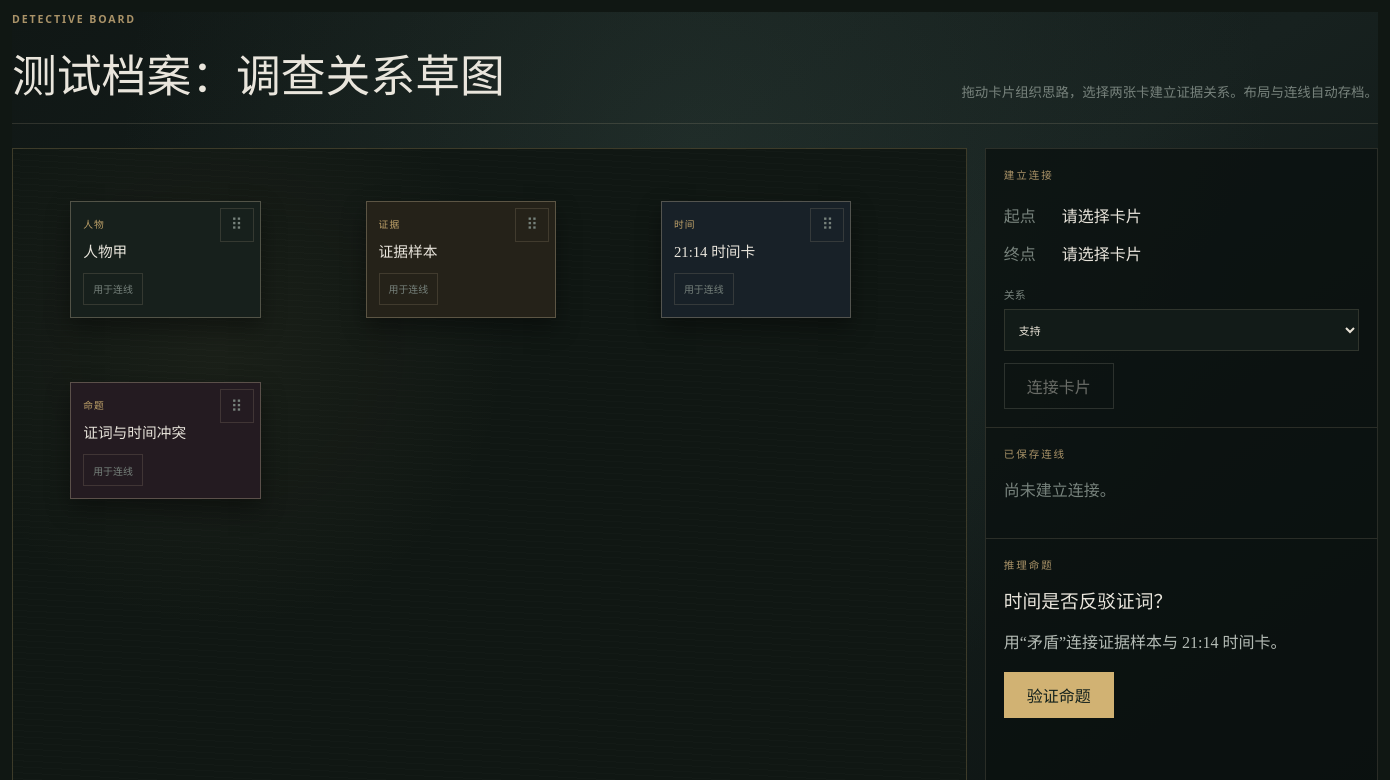
Scenario: V0.4.2 investigation tool UI › creates and deletes a detective-board connection through the UI
The width and height of the screenshot is (1390, 780).
Check: the text "证据样本" is shown, box [378, 244, 437, 260]
Check: the text "21:14 时间卡" is shown, box [674, 244, 755, 260]
Step 1. Click the 2nd button "用于连线" → click(408, 289), box [378, 273, 438, 305]
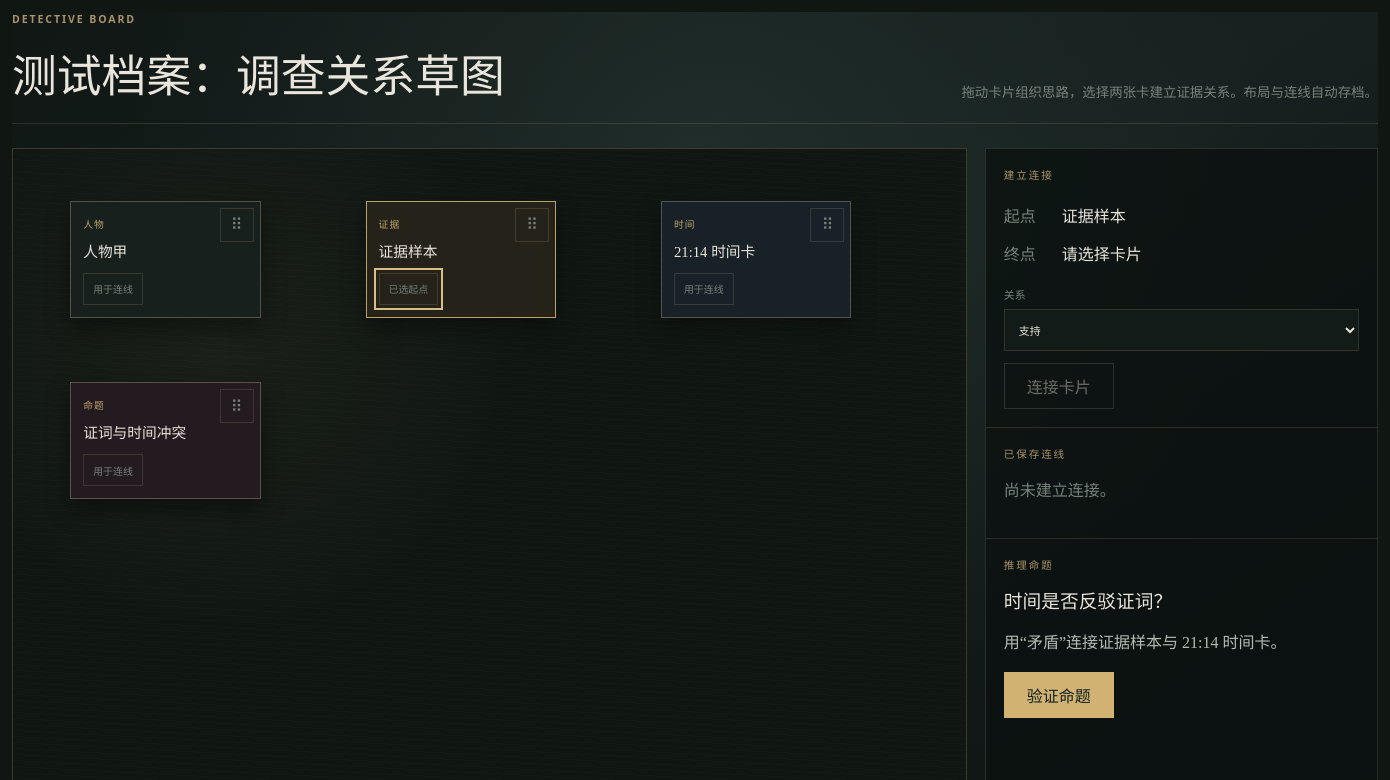
Step 2. Click the 2nd button "用于连线" → click(704, 289), box [674, 273, 734, 305]
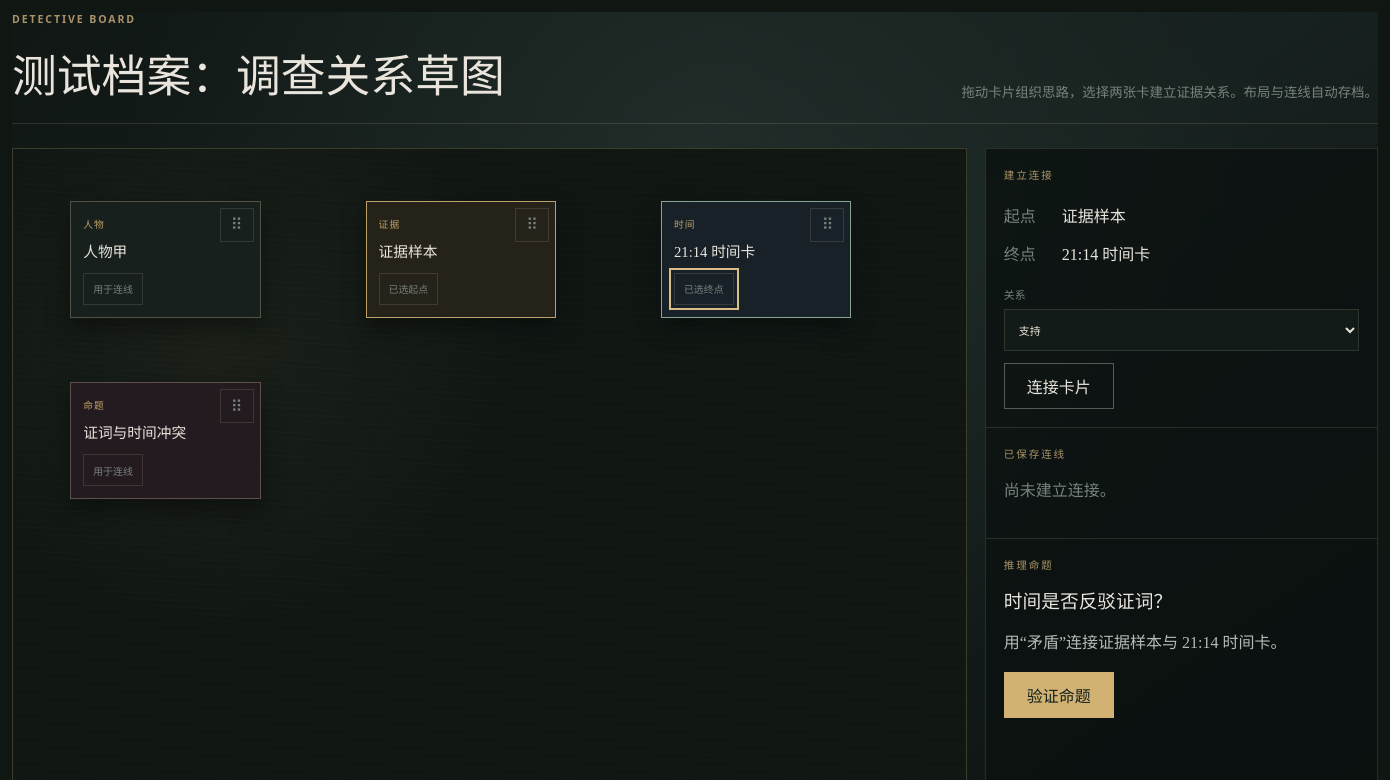
Step 3. Select "矛盾" in the dropdown labelled "关系" → (1181, 330), box [1004, 309, 1359, 351]
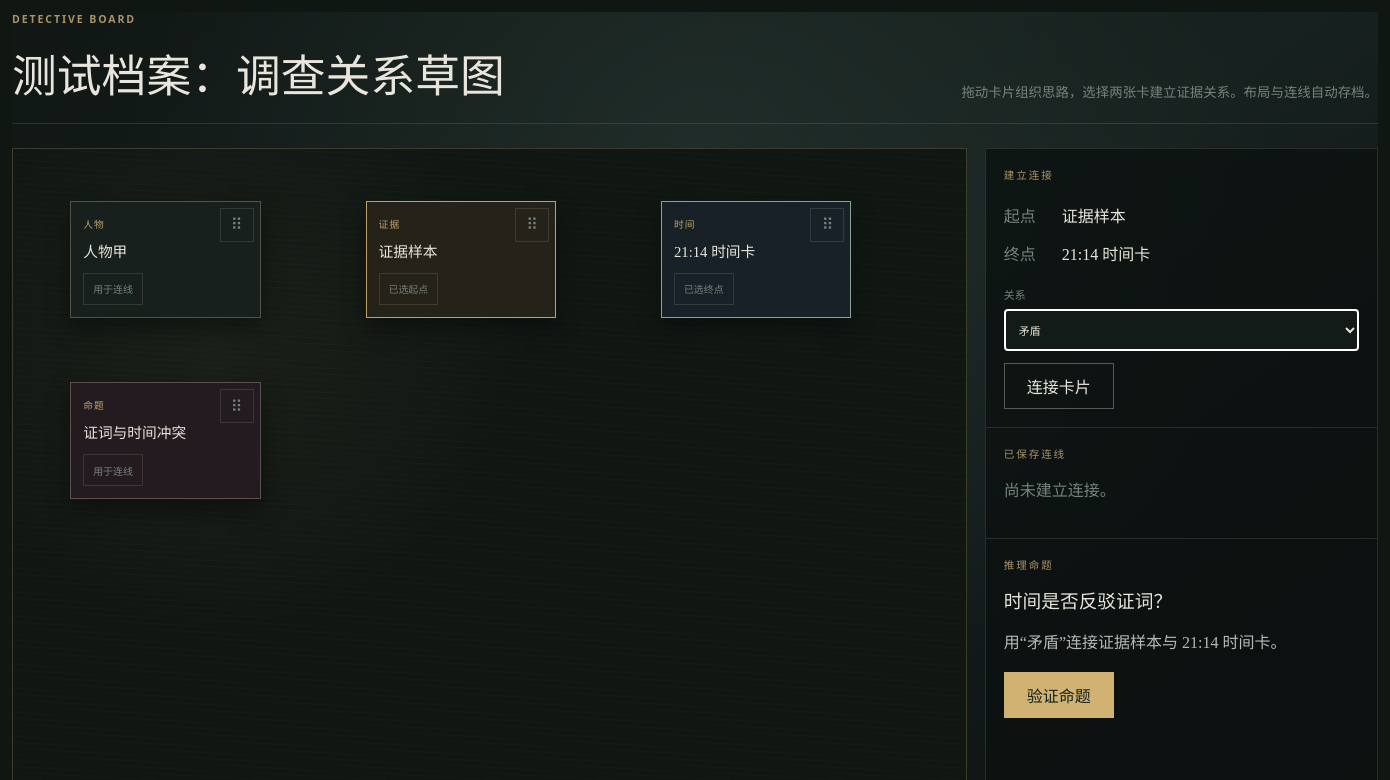
Step 4. Click the button "连接卡片" → click(1059, 386), box [1004, 363, 1114, 409]
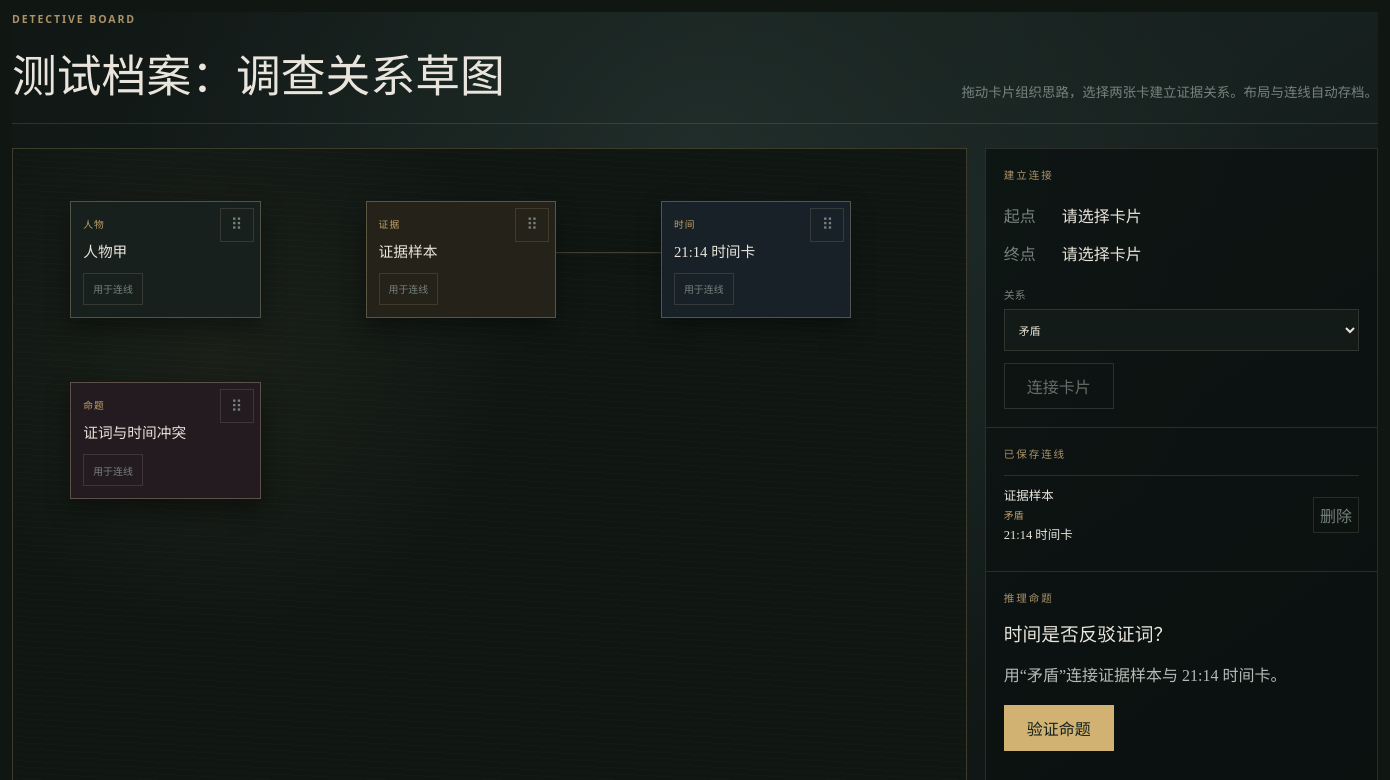
Check: the button with aria-label "删除矛盾连接" is shown
Step 5. Click the button with aria-label "删除矛盾连接" → click(1336, 514), box [1313, 496, 1359, 532]
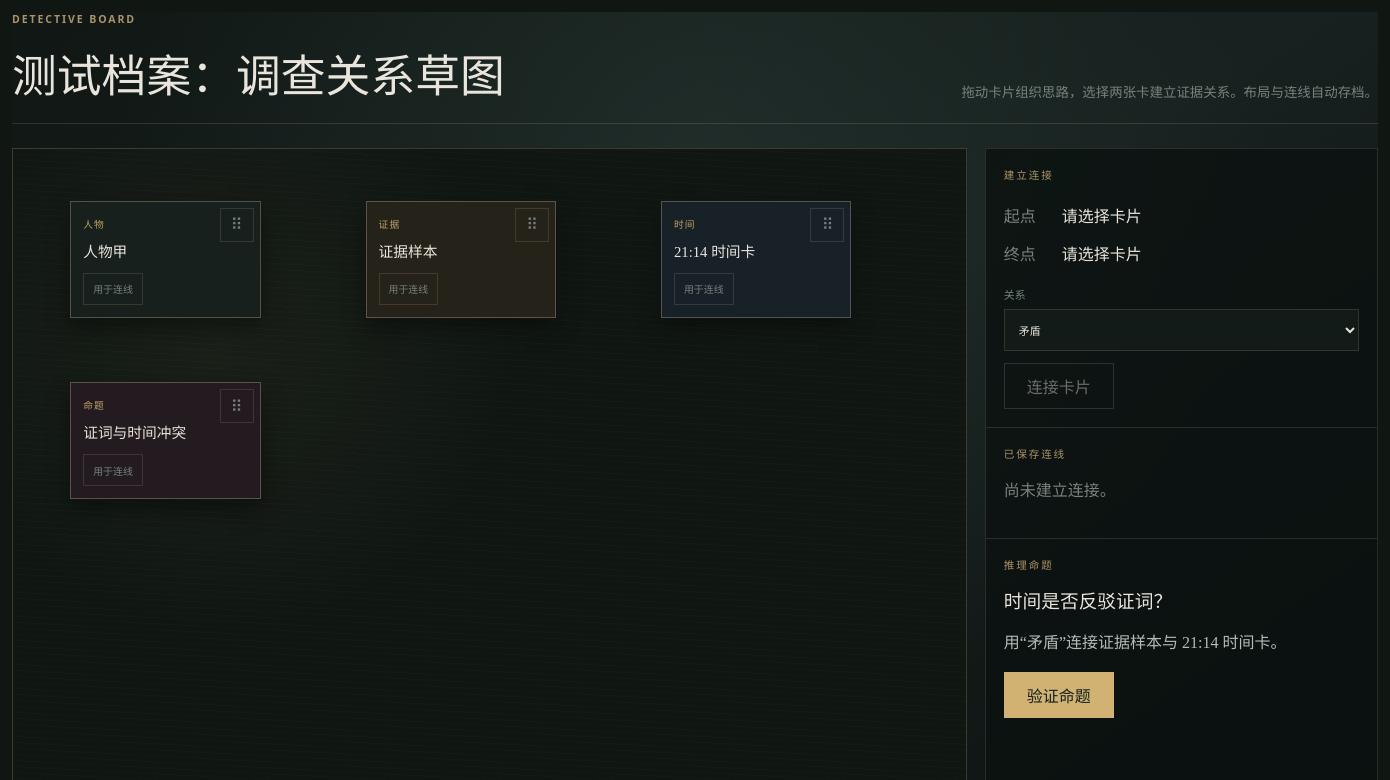
Check: the button "删除矛盾连接" is gone
